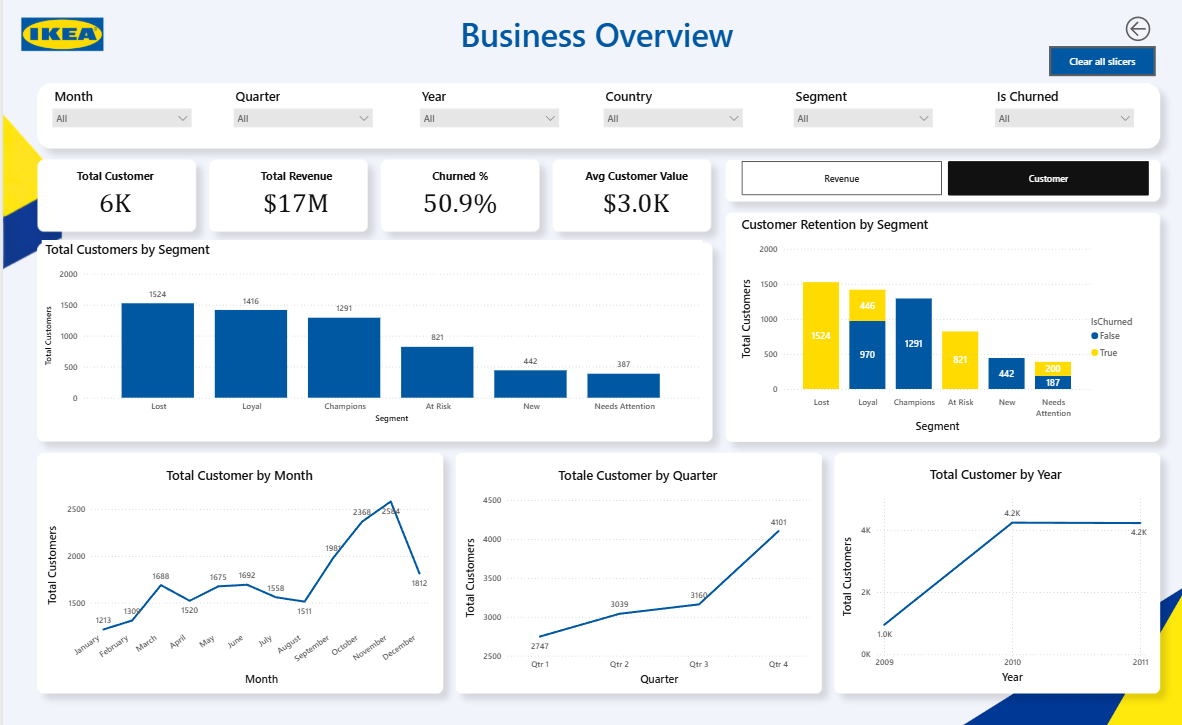

What the dashboard file says about the page in this screenshot:
{"tool":"powerbi","page":{"name":"Overview","canvas":[1750,1100],"ordinal":0},"visuals":[{"type":"cardVisual","title":"Total Customer","fields":{"Data":["Sheet1.Total Customers"]},"box":[61.9,253.1,205.7,100.1],"z":0},{"type":"columnChart","fields":{"Category":["Sheet1.Segment"],"Y":["Sheet1.Total Revenue"]},"box":[61.9,382.4,974.7,275.5],"z":0,"group":"g1"},{"type":"cardVisual","title":"Avg Customer Value","fields":{"Data":["Sheet1.Avg Customer Value"]},"box":[830.4,253.1,205.7,100.1],"z":1000},{"type":"pieChart","title":"Revenue Retention by Segment","fields":{"Category":["Sheet1.Segment"],"Series":["Sheet1.IsChurned"],"Y":["Sum(Sheet1.Revenue)"]},"box":[1083.5,331.8,609.2,326.2],"z":1000,"group":"g1"},{"type":"cardVisual","title":"Total Revenue","fields":{"Data":["Sheet1.Total Revenue"]},"box":[329.9,253.1,205.7,100.1],"z":2000},{"type":"lineChart","title":"Total Revenue by Month","fields":{"Category":["Sheet1.InvoiceMonth.Variation.Date Hierarchy.Month"],"Y":["Sum(Sheet1.Revenue)"]},"box":[61.9,701.1,575.5,328],"z":2000,"group":"g1"},{"type":"cardVisual","title":"Churned %","fields":{"Data":["Sheet1.Churned %"]},"box":[571.7,253.1,205.7,100.1],"z":3000},{"type":"lineChart","title":"Totale Revenue by Quarter","fields":{"Category":["Sheet1.InvoiceMonth.Variation.Date Hierarchy.Quarter"],"Y":["Sum(Sheet1.Revenue)"]},"box":[674.9,701.1,519.2,328],"z":3000,"group":"g1"},{"type":"slicer","fields":{"Values":["Sheet1.InvoiceDate.Variation.Date Hierarchy.Month"]},"box":[61.9,138.7,224.9,90],"z":4000},{"type":"lineChart","title":"Total  Revenue by Year","fields":{"Category":["Sheet1.InvoiceMonth.Variation.Date Hierarchy.Year"],"Y":["Sum(Sheet1.Revenue)"]},"box":[1231.6,701.1,461.1,328],"z":4000,"group":"g1"},{"type":"slicer","fields":{"Values":["Sheet1.InvoiceDate.Variation.Date Hierarchy.Quarter"]},"box":[329.9,138.7,224.9,90],"z":5000},{"type":"slicer","fields":{"Values":["Sheet1.Segment"]},"box":[1156.6,138.7,224.9,90],"z":6000},{"type":"slicer","fields":{"Values":["Sheet1.IsChurned"]},"box":[1452.7,138.7,224.9,90],"z":7000},{"type":"slicer","fields":{"Values":["Sheet1.InvoiceDate.Variation.Date Hierarchy.Year"]},"box":[605.5,138.7,224.9,90],"z":8000},{"type":"slicer","fields":{"Values":["Sheet1.Country"]},"box":[875.4,138.7,224.9,90],"z":9000},{"type":"group","id":"g1","title":"Revenue","box":[61.9,331.8,1630.8,697.3],"z":11000},{"type":"bookmarkNavigator","box":[1089.1,253.1,600,50],"z":12000},{"type":"image","box":[0,12.9,175.1,105.1],"z":13000},{"type":"textbox","box":[588,27.6,575.1,77.4],"z":14000},{"type":"actionButton","box":[1649.6,27.6,99.5,59],"z":15000},{"type":"actionButton","box":[1542.7,82.9,156.7,44.2],"z":16000}]}

Visuals, with their boxes in screenshot pixels (x1, y1, x2, y2), scaled from the page's 1750x1100 canvas onto the 1182x725 screenshot:
"Total Customer" cardVisual: select_region(42, 167, 181, 233)
columnChart - Sheet1.Segment x Sheet1.Total Revenue: select_region(42, 252, 700, 434)
"Avg Customer Value" cardVisual: select_region(561, 167, 700, 233)
"Revenue Retention by Segment" pieChart: select_region(732, 219, 1143, 434)
"Total Revenue" cardVisual: select_region(223, 167, 362, 233)
"Total Revenue by Month" lineChart: select_region(42, 462, 431, 678)
"Churned %" cardVisual: select_region(386, 167, 525, 233)
"Totale Revenue by Quarter" lineChart: select_region(456, 462, 807, 678)
slicer - Sheet1.InvoiceDate.Variation.Date Hierarchy.Month: select_region(42, 91, 194, 151)
"Total  Revenue by Year" lineChart: select_region(832, 462, 1143, 678)
slicer - Sheet1.InvoiceDate.Variation.Date Hierarchy.Quarter: select_region(223, 91, 375, 151)
slicer - Sheet1.Segment: select_region(781, 91, 933, 151)
slicer - Sheet1.IsChurned: select_region(981, 91, 1133, 151)
slicer - Sheet1.InvoiceDate.Variation.Date Hierarchy.Year: select_region(409, 91, 561, 151)
slicer - Sheet1.Country: select_region(591, 91, 743, 151)
"Revenue" group: select_region(42, 219, 1143, 678)
bookmarkNavigator: select_region(736, 167, 1141, 200)
image: select_region(0, 9, 118, 78)
textbox: select_region(397, 18, 786, 69)
actionButton: select_region(1114, 18, 1181, 57)
actionButton: select_region(1042, 55, 1148, 84)
